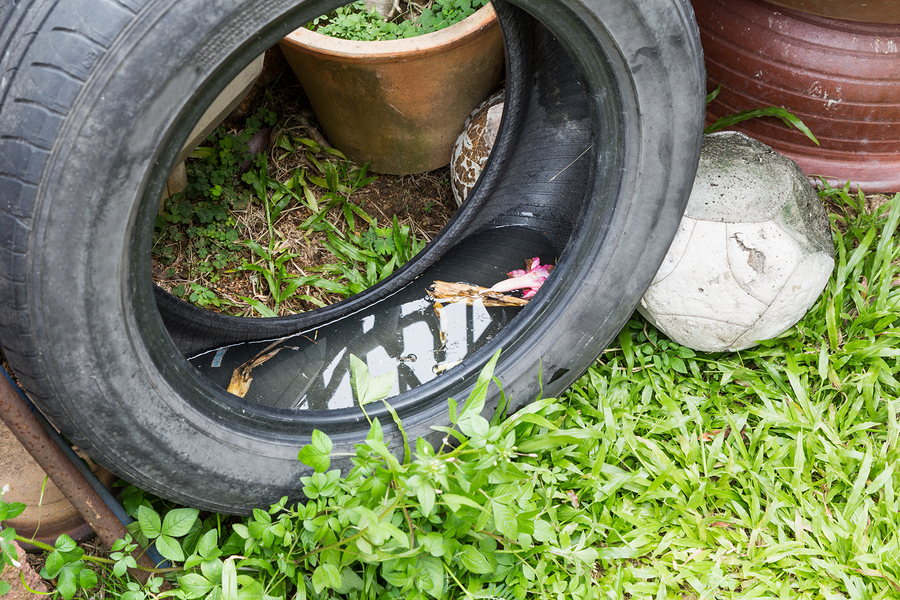container: (1, 1, 767, 525), (279, 1, 522, 183)
tire: (1, 3, 764, 525)
vegetation: (300, 480, 900, 596), (560, 368, 900, 492)
water: (173, 219, 569, 421)
